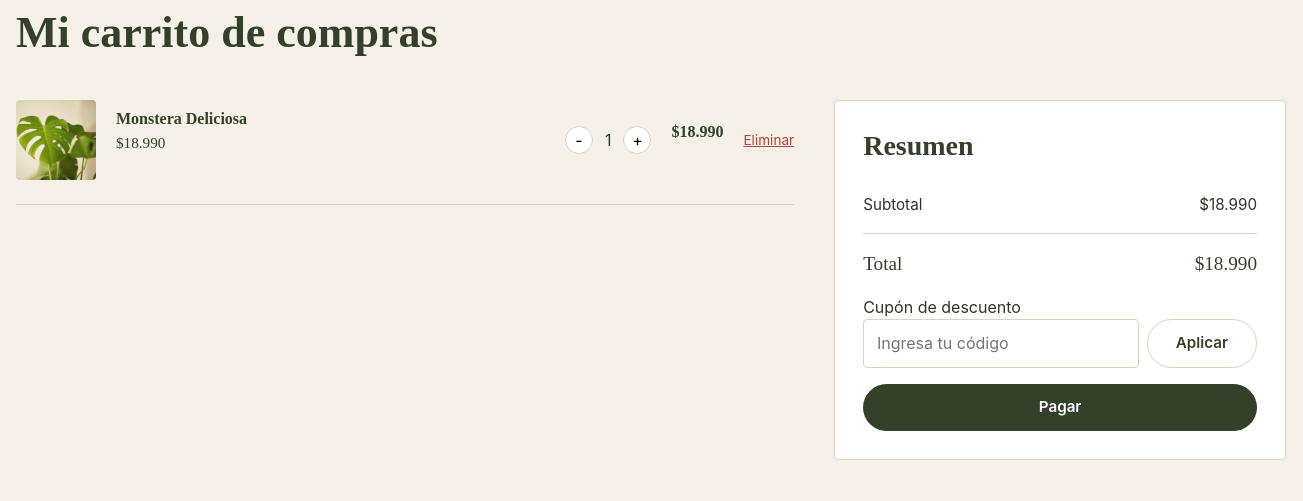
Carrito › muestra un error con un cupón inválido y no descuenta nada
The image size is (1303, 501).
Type "NOEXISTE" into the field labelled "Cupón de descuento" at (1001, 343), box [863, 319, 1139, 368]
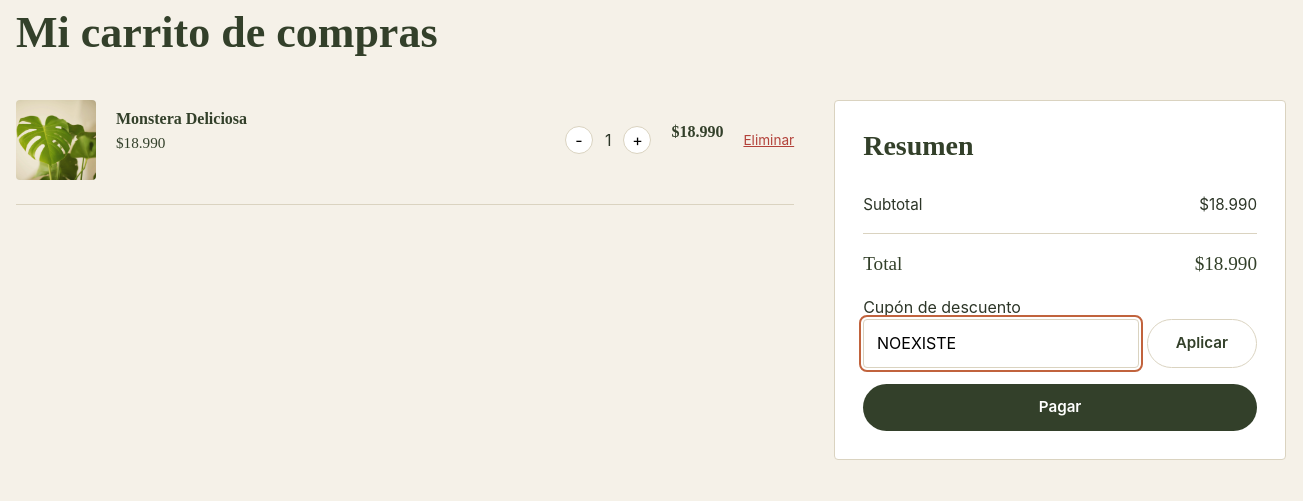
Click the button "Aplicar" at (1202, 343), box [1147, 319, 1257, 368]
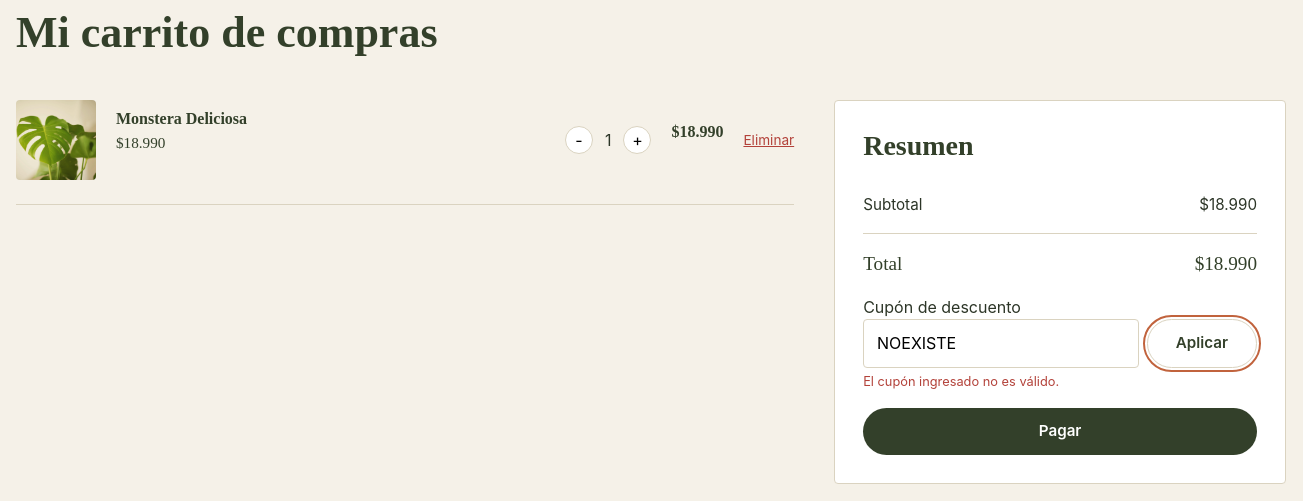
expect the text with test id "carrito-total" reads "$18.990": met, box [1195, 253, 1257, 274]
expect the message shows "no es válido": met, box [863, 374, 1059, 389]
